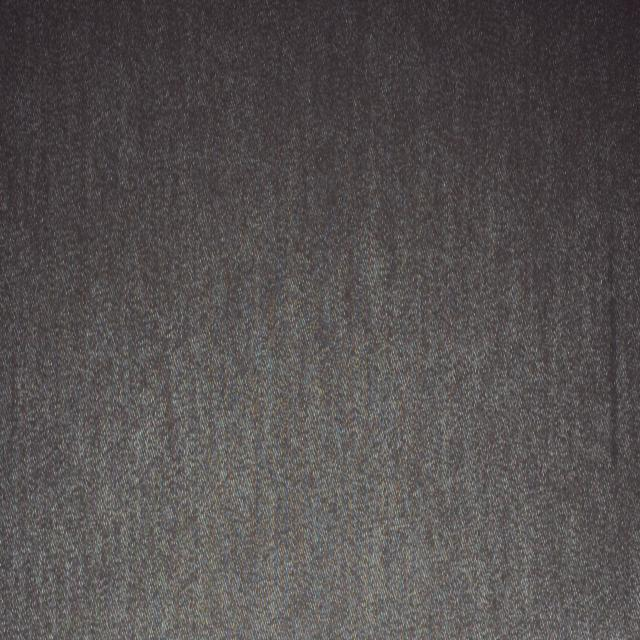Line: (608, 219, 621, 474)
